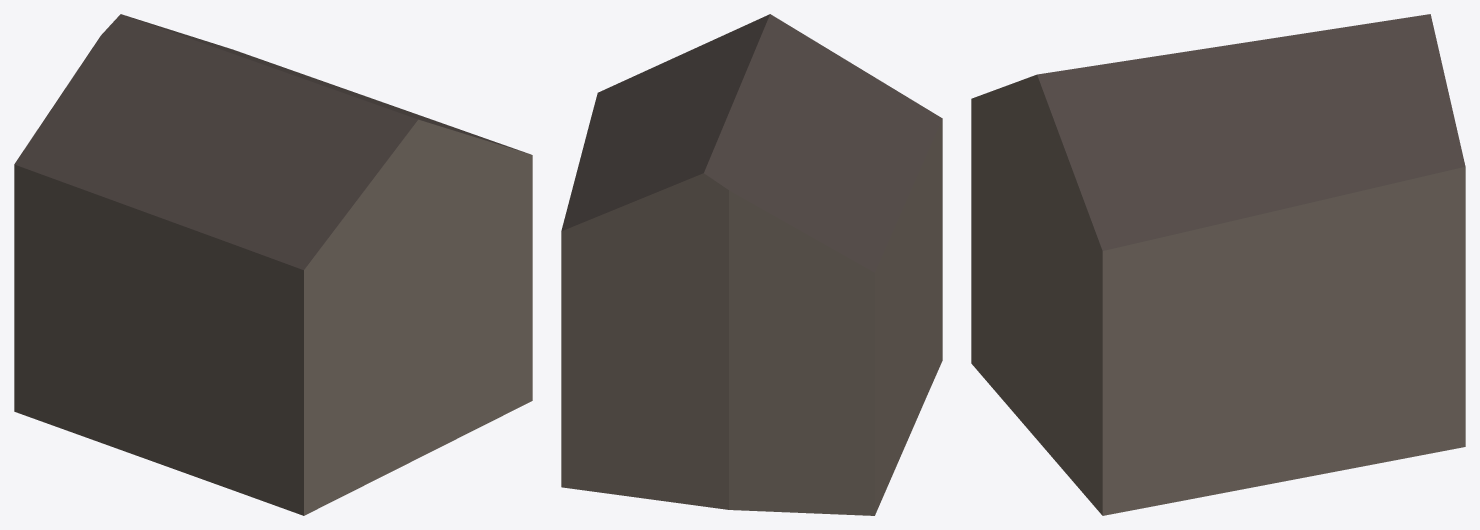
3 views of the same model, side by side, from view 1: azimuth 30°, elevation 25°; view 2: azimuth 150°, elevation 25°; view 3: azimuth 270°, elevation 25° (orthographic). The views are drawn at different scales.
Parts seen in each view (by area): view 1: HP-w1513026716; view 2: HP-w1513026716; view 3: HP-w1513026716.
Boxes of the visible parts, left/top/right/bottom form: HP-w1513026716: left=14, top=14, right=532, bottom=515; HP-w1513026716: left=561, top=14, right=942, bottom=515; HP-w1513026716: left=971, top=14, right=1465, bottom=515.
Bounding box in the file's own units: 10.22 × 8.27 × 10.14.
